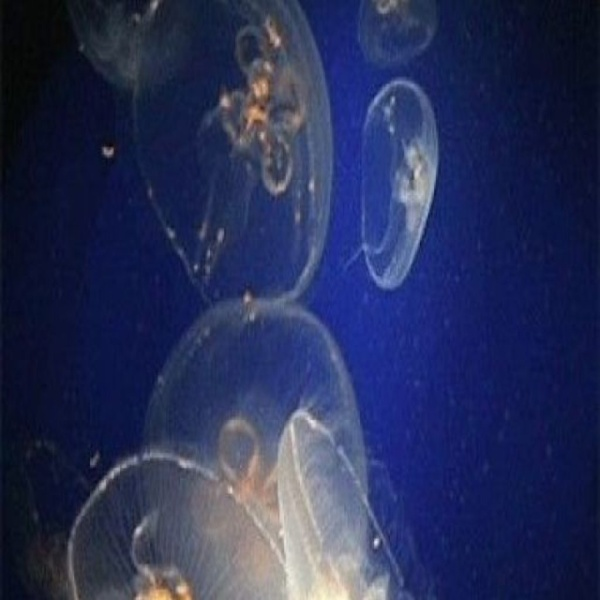Jellyfish: (16, 0, 438, 600)
